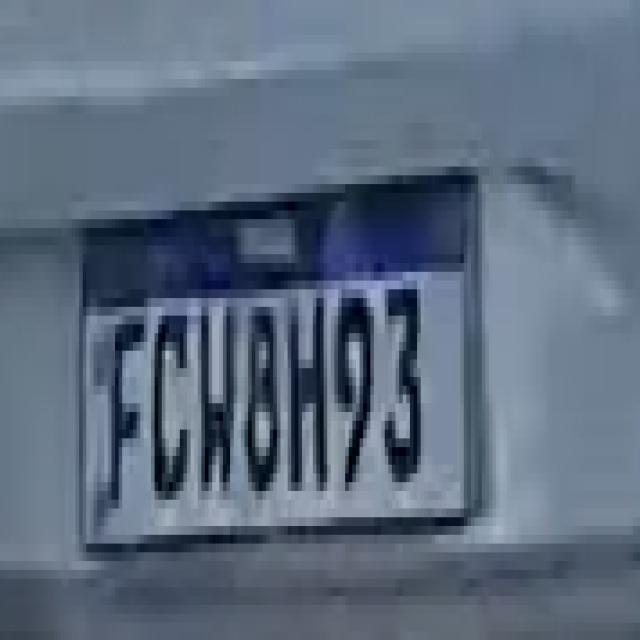Placa_mercosul_carro: (77, 169, 484, 549)
